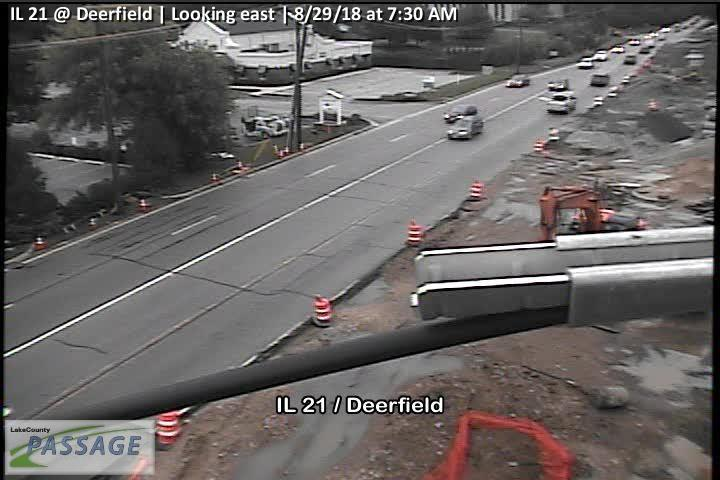SUV: (446, 115, 482, 140), (546, 92, 577, 115), (547, 77, 569, 91), (591, 72, 609, 87)
Sedan: (443, 104, 477, 122), (505, 73, 530, 88)
Truck: (539, 184, 650, 250)
